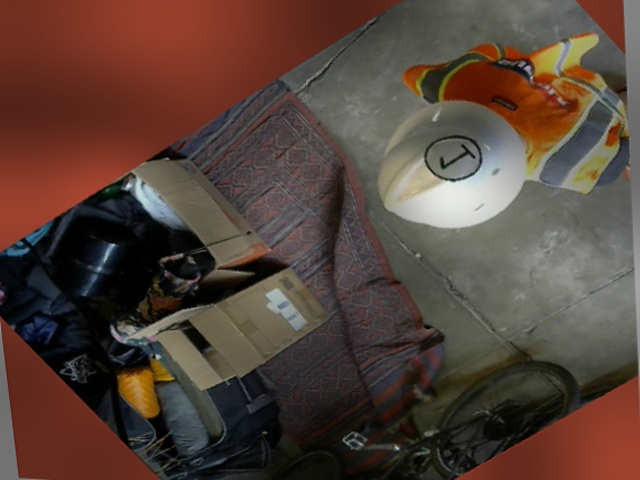one: (414, 126, 492, 189)
